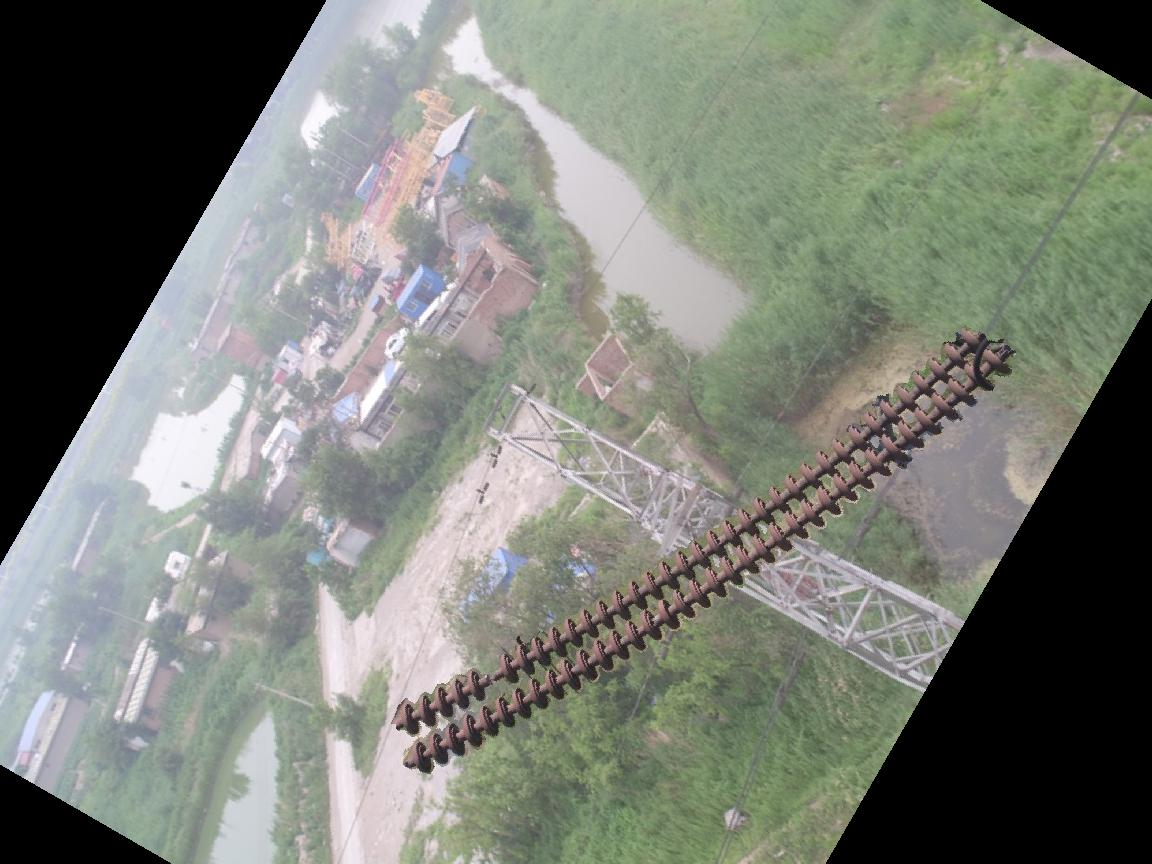insulator: (390, 321, 1020, 779)
insulator_stringdrop: (463, 650, 520, 703)
